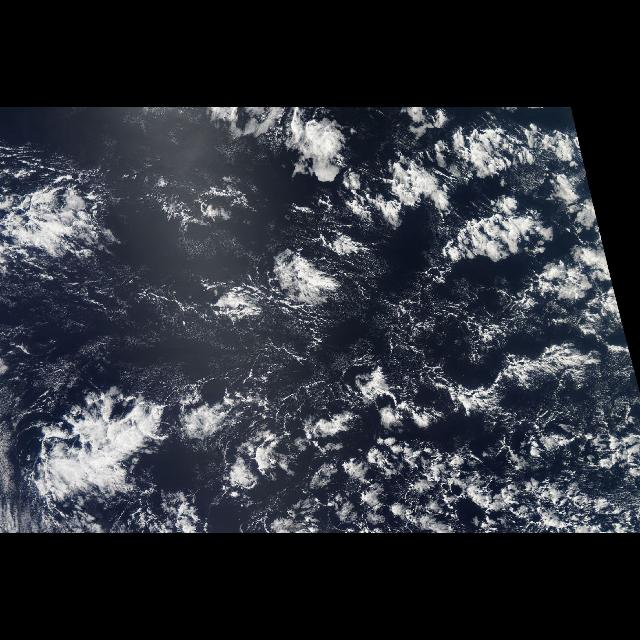Fish: (31, 373, 183, 515)
Flower: (213, 116, 639, 532)
Gravel: (310, 442, 640, 532)
Sugar: (4, 266, 236, 409), (341, 268, 501, 362)
